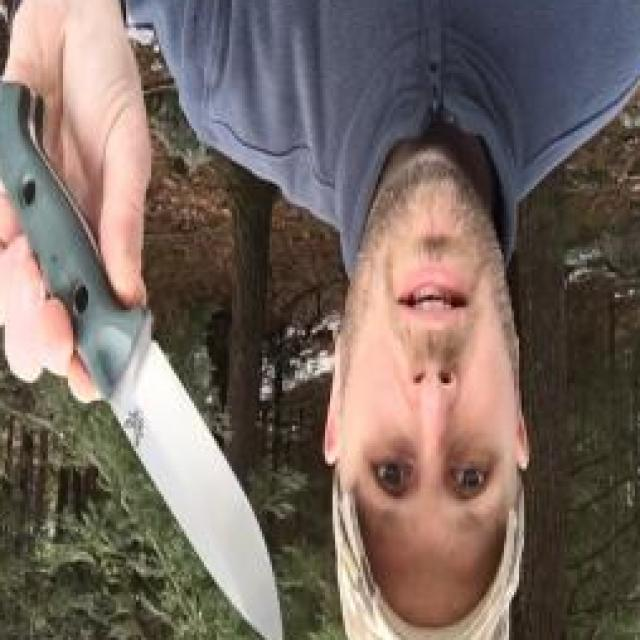knife: (35, 176, 290, 640)
